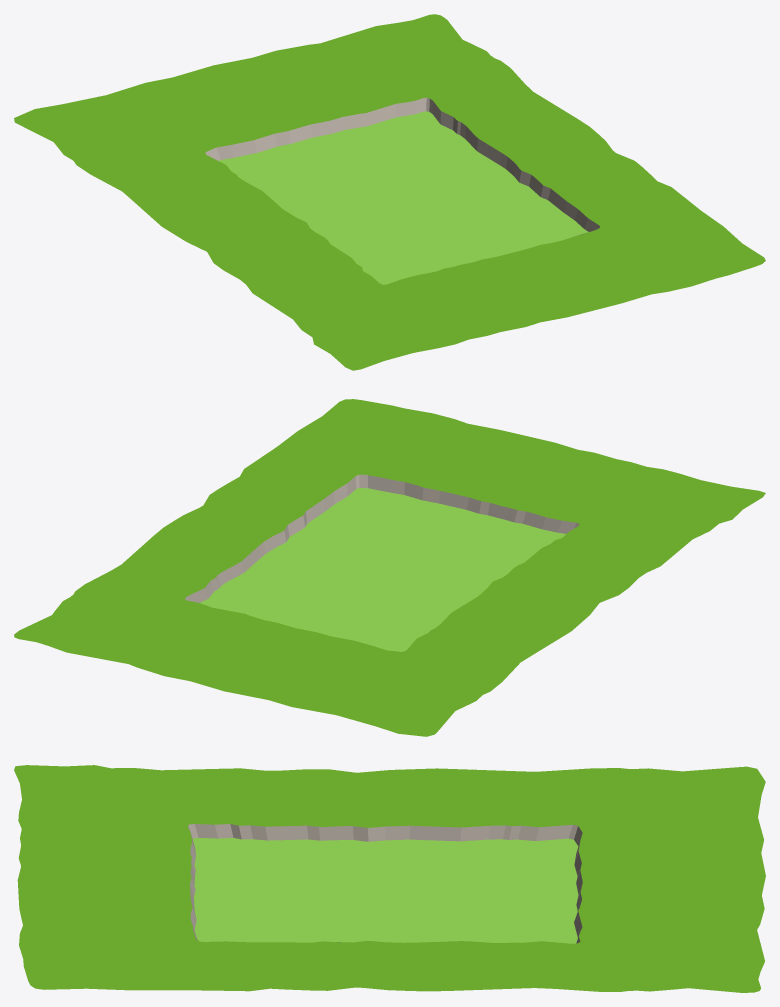
The model's file is Game_field.fbx.
3 renders of one model, top to bottom at view 1: azimuth 30°, elevation 25°; view 2: azimuth 150°, elevation 25°; view 3: azimuth 270°, elevation 25°, orthographic. The views are drawn at different scales.
Parts seen in each view (by area): view 1: Plane; view 2: Plane; view 3: Plane.
Part boxes in pixels (x1,y1,x2,y2): Plane: (14,14,765,370); Plane: (14,399,765,736); Plane: (14,765,765,992).
Bounding box in the file's own units: 445 × 11.42 × 620.
